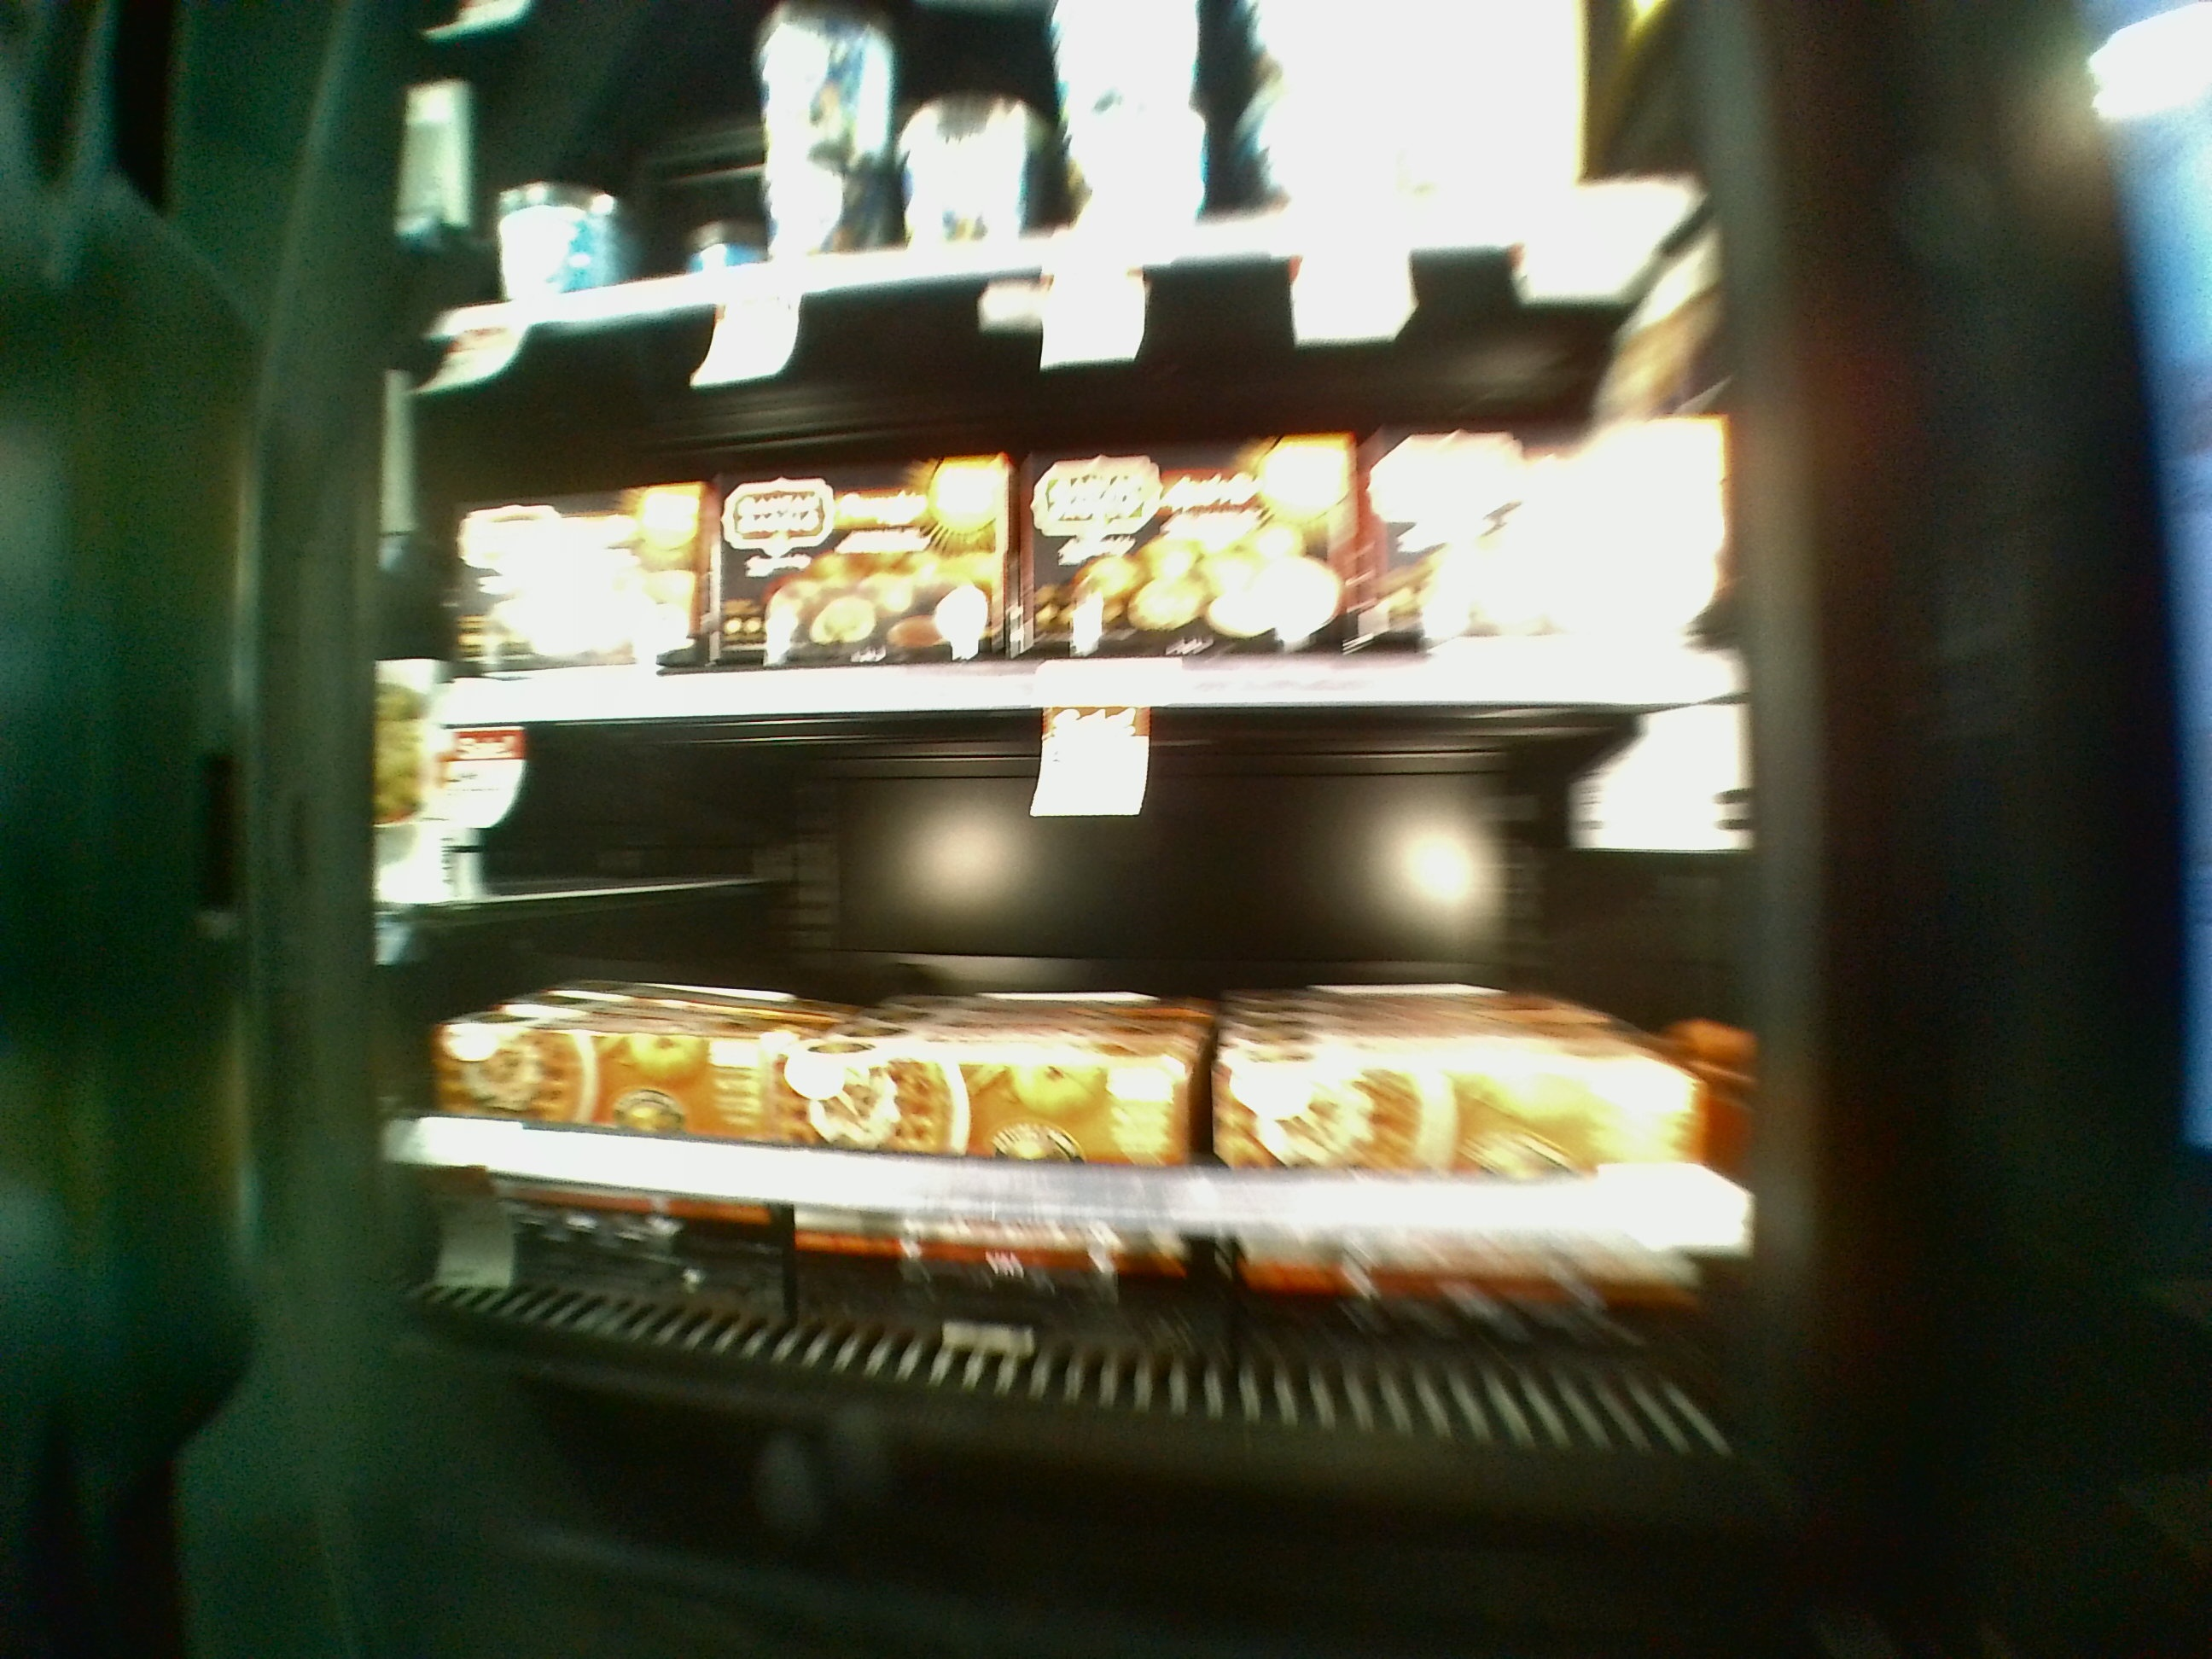shelf: (392, 723, 1796, 1469), (392, 329, 1775, 711)
